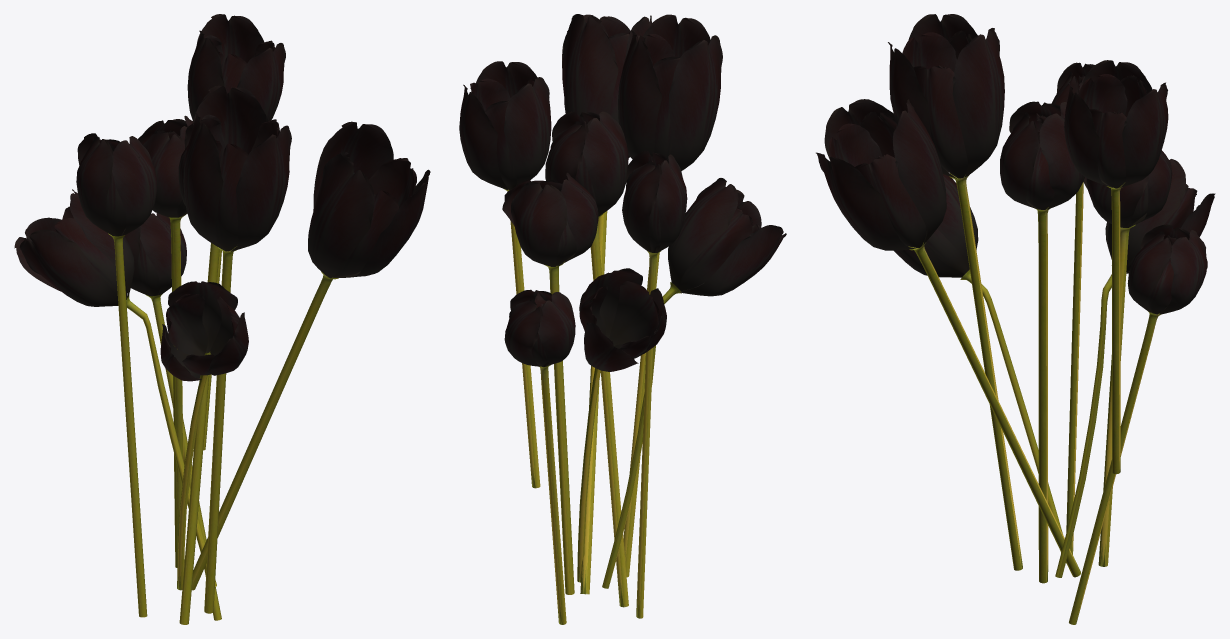
Rendered from RamoTulipanesNegros.fbx.
The picture shows the model from 3 angles, left to right: view 1: azimuth 30°, elevation 25°; view 2: azimuth 150°, elevation 25°; view 3: azimuth 270°, elevation 25°; orthographic projection. The views are drawn at different scales.
Parts seen in each view (by area): view 1: TulipanesNegros; view 2: TulipanesNegros; view 3: TulipanesNegros.
Part boxes in pixels (<box>): TulipanesNegros: <box>14,14,430,624</box>; TulipanesNegros: <box>459,14,786,624</box>; TulipanesNegros: <box>816,14,1215,624</box>.
Size of the model in its own units: 0.1391 by 0.1921 by 0.3051.
Materials: 2 (2 with a texture image).
